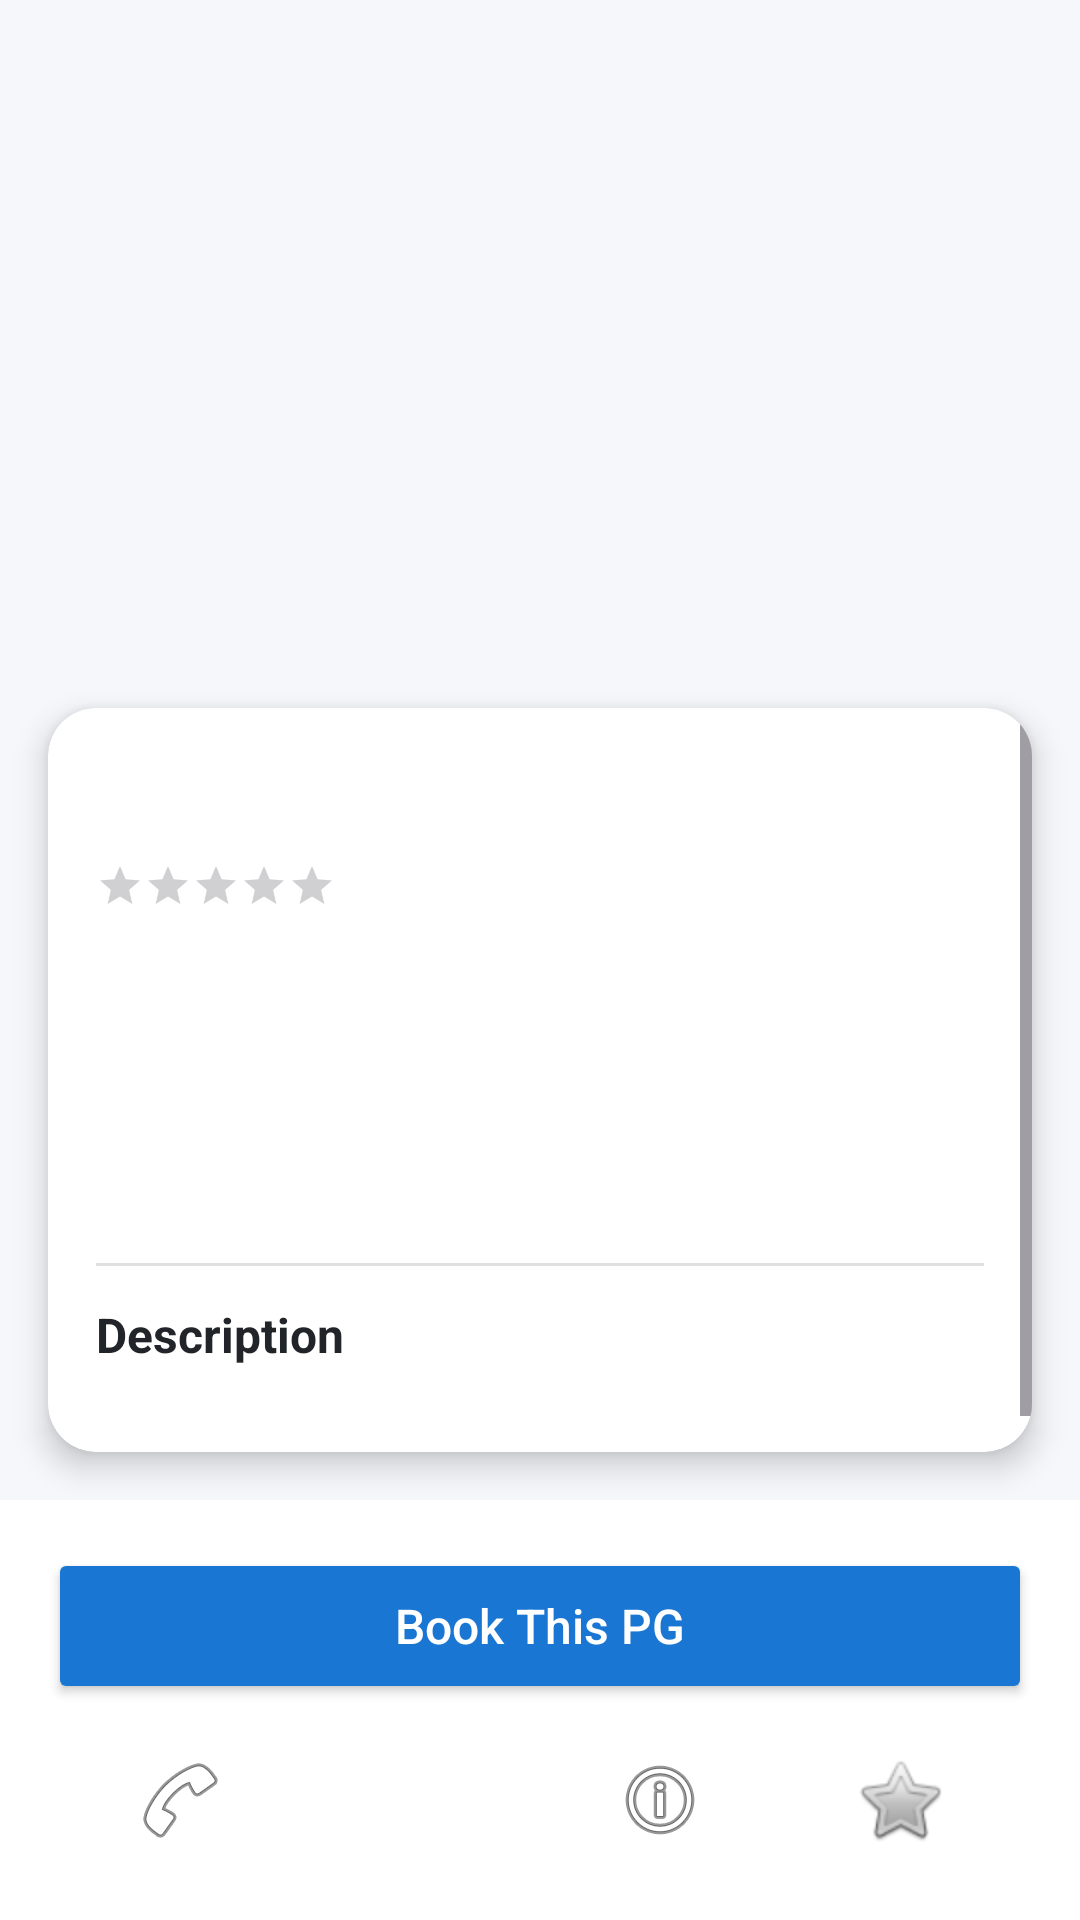

Named icons in this screenshot (1080 × 1920) and their bounding boxes, [left=x1, top=y1, right=x2, bottom=y2]:
Contact Owner: [left=143, top=1763, right=218, bottom=1838]
Rate PG: [left=861, top=1762, right=941, bottom=1840]
